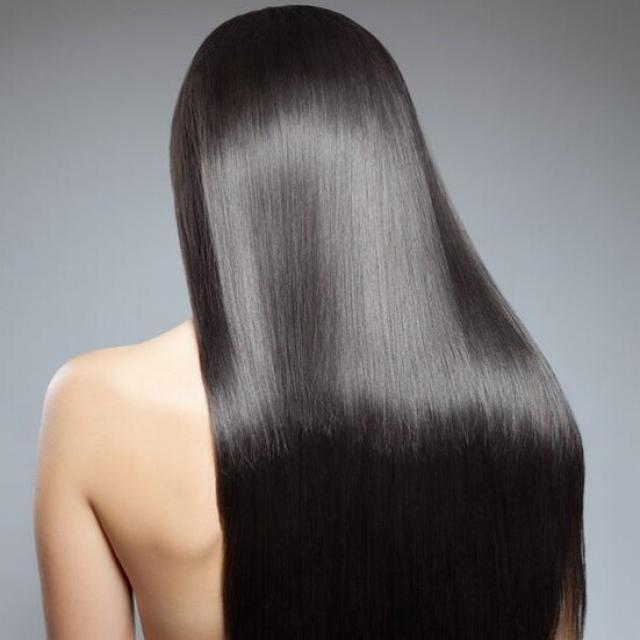Nonhelmet: (166, 4, 589, 362)
